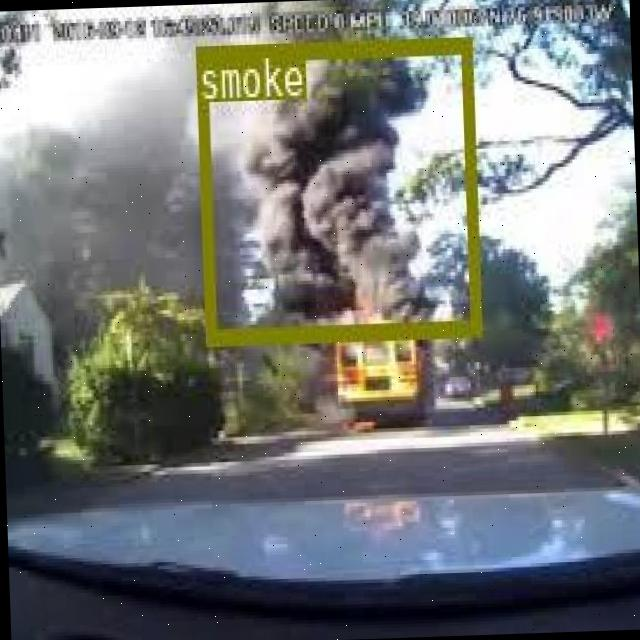smoke: (194, 37, 478, 341)
